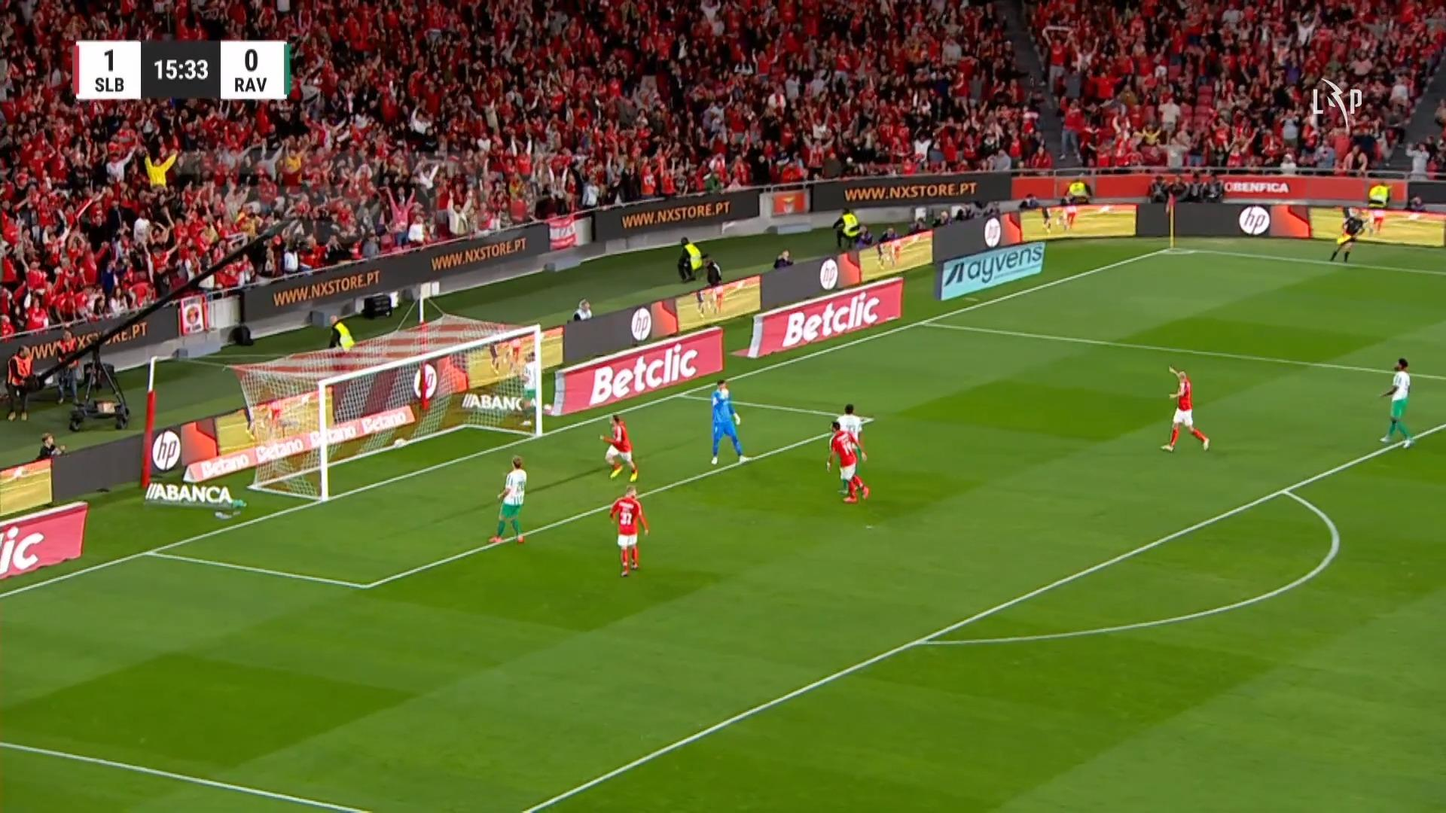ball: (395, 438, 405, 449)
player: (1160, 364, 1210, 452), (608, 484, 649, 577), (825, 419, 869, 503), (487, 455, 527, 544), (709, 378, 749, 464), (1377, 357, 1414, 448), (597, 413, 638, 483), (1328, 206, 1368, 263), (835, 402, 872, 461), (1366, 179, 1391, 235)
